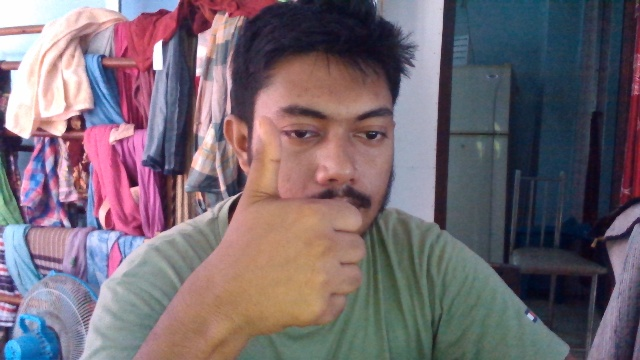yes: (235, 113, 368, 343)
